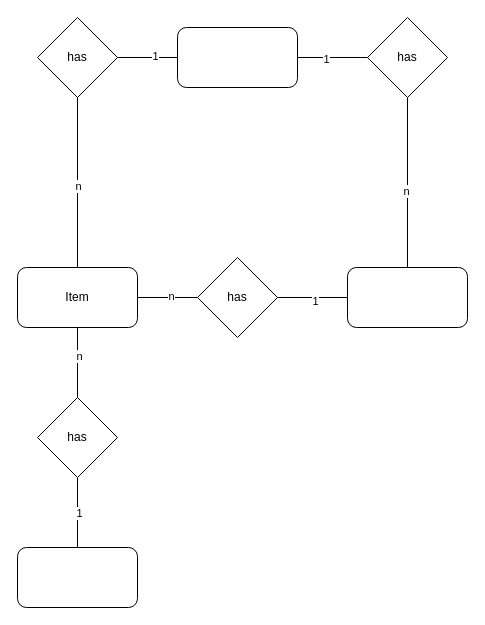
This 485x625 diagram has some shape labels left out. The shapes that lost their labels are listed below. From the top down, each one's centre as x and y in pixels, then its label:
At (237,57): "brand".
At (407,297): "Creation".
At (77,577): "User".
